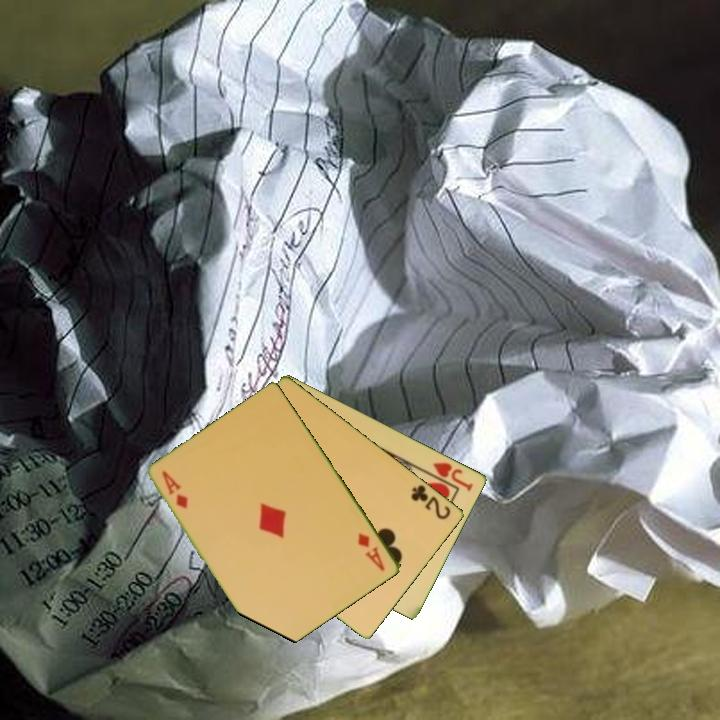2c: (408, 481, 454, 523)
Ad: (354, 529, 388, 574), (159, 467, 191, 511)
Jh: (429, 458, 477, 494)
